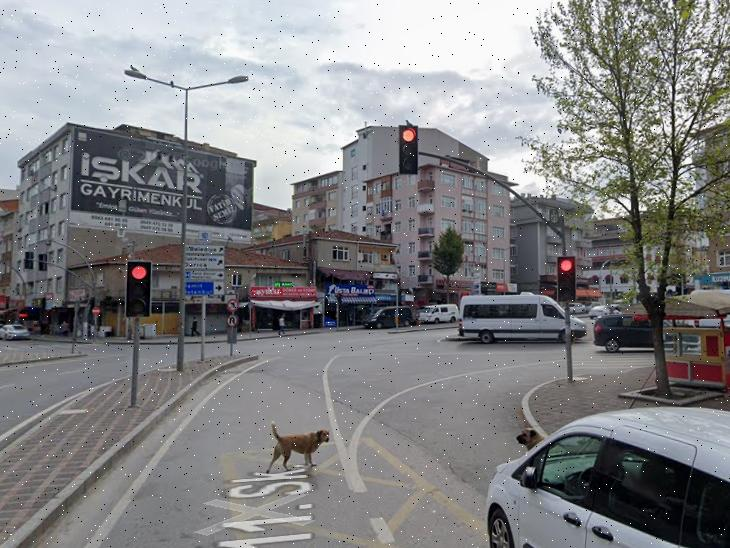leftturnsareforbidden: (227, 300, 238, 312)
redlight: (125, 261, 150, 318), (399, 127, 420, 172), (556, 256, 574, 302)
